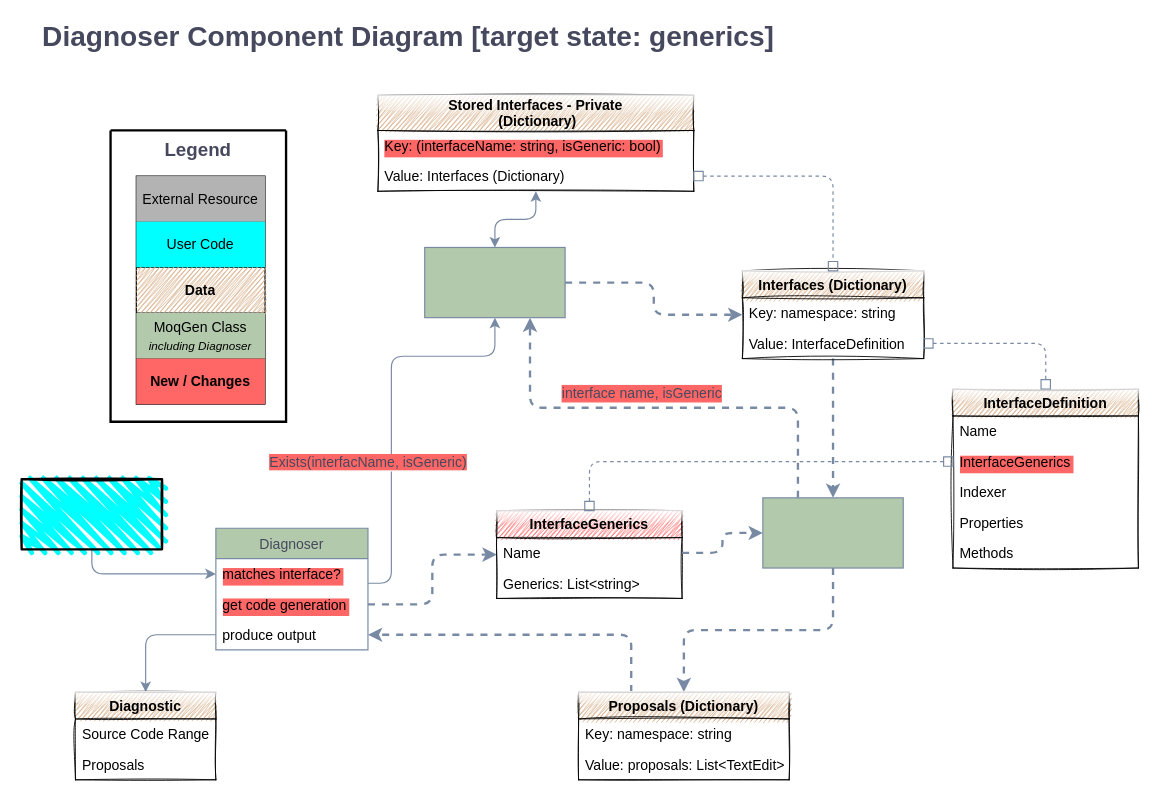
Some shapes in this 1158 by 804 pixel diagram are drawn without their labels. Each missing label, with the centre of its shape:
InterfaceStore: the point at 494,282
MockText: the point at 832,532
raw, syntactically broken code: the point at 91,513
